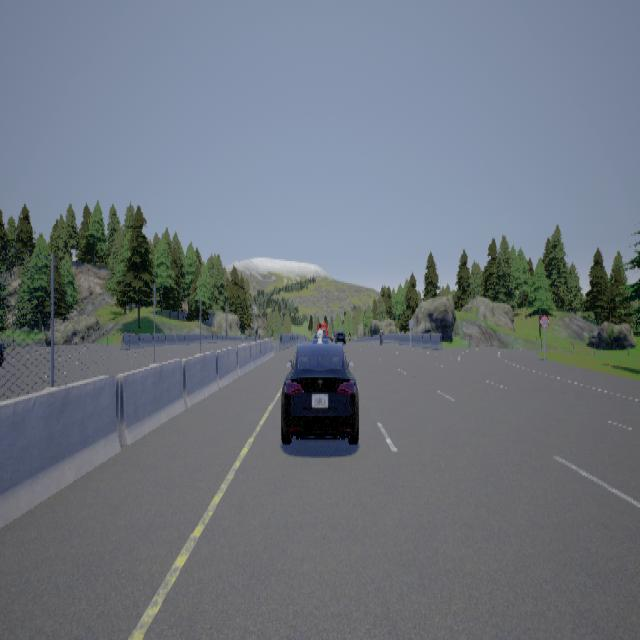traffic_sign: (539, 313, 548, 327)
vehicle: (280, 340, 360, 443)
